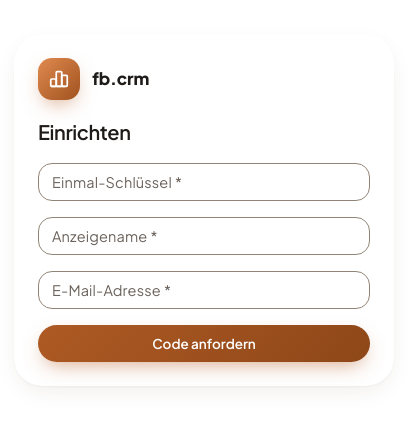
Einrichtungsseite, Schritt Angaben › sagt bei abgewiesenem Schluessel nicht, woran es lag, und bleibt beim ersten Schritt
This screenshot has width=409, height=448.
Type "einmal" into the field labelled "Einmal-Schlüssel *". click: (204, 182)
box: x1=38 y1=163 x2=370 y2=201
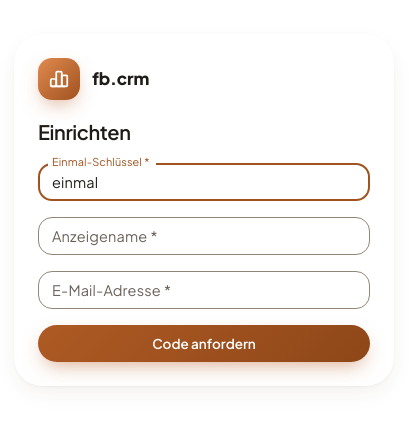
Type "Manfred Wolff" into the field labelled "Anzeigename *". click: (204, 236)
box: x1=38 y1=217 x2=370 y2=255
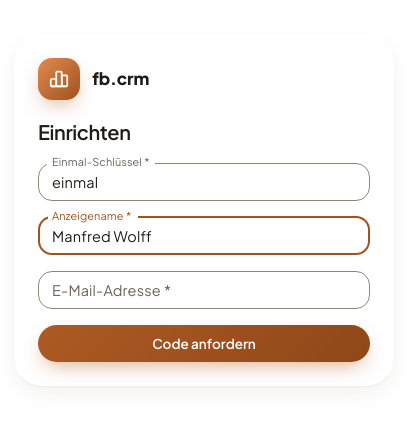
Type "info@mwolff.org" into the field labelled "E-Mail-Adresse *". click: (204, 290)
box: x1=38 y1=271 x2=370 y2=309
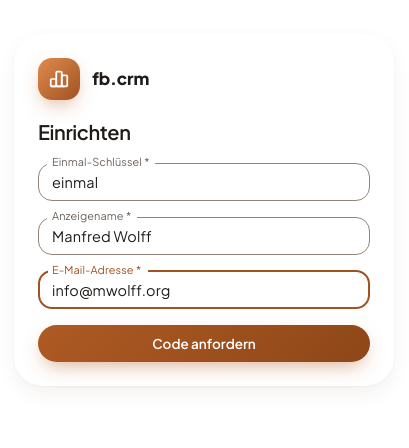
Click the button "Code anfordern". click: (204, 343)
box: x1=38 y1=325 x2=370 y2=362
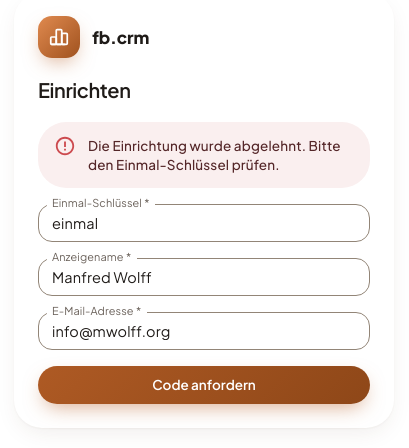
Expected: the button "Code anfordern" is enabled, x1=38 y1=366 x2=370 y2=404
Expected: the message reads "Die Einrichtung wurde abgelehnt. Bitte den Einmal-Schlüssel prüfen.", x1=88 y1=137 x2=341 y2=173
